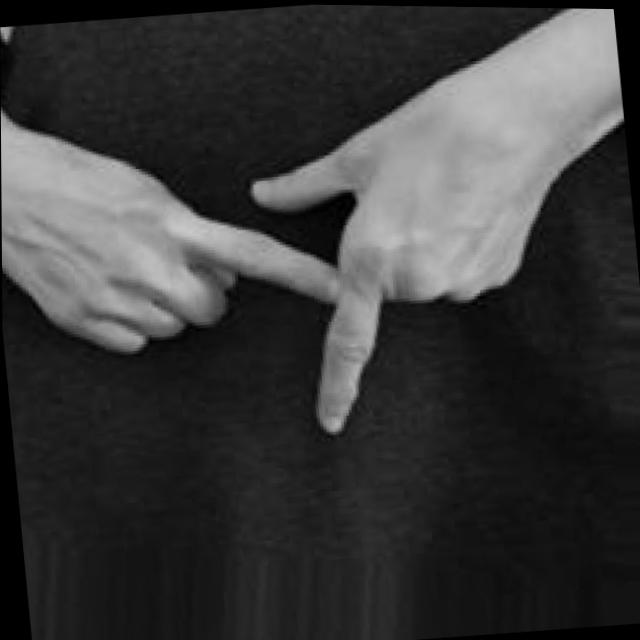F: (1, 76, 640, 469)
